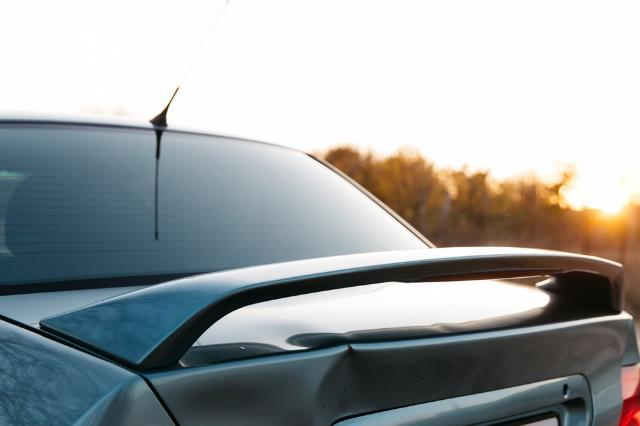dent: (310, 350, 396, 418)
